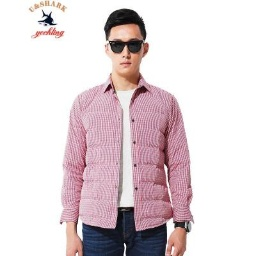face: (104, 7, 151, 79)
